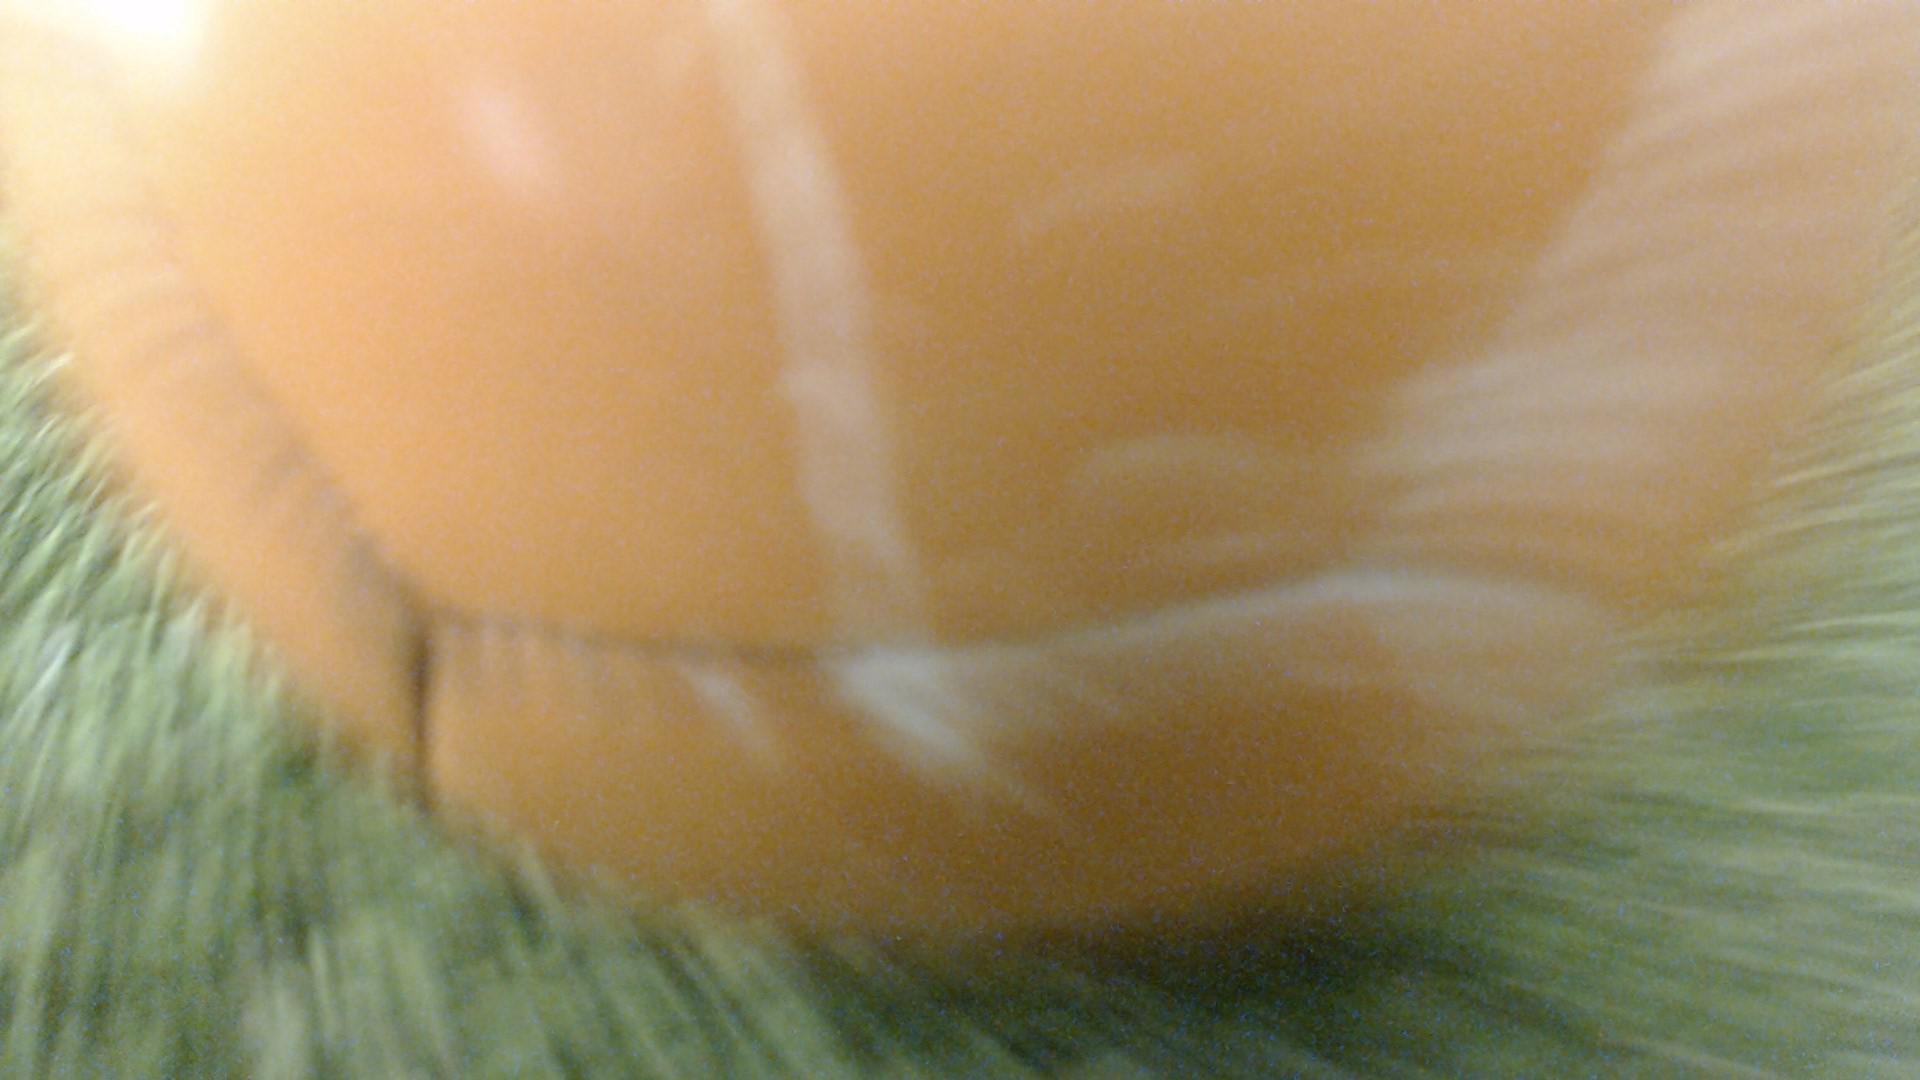bola: (0, 0, 1919, 931)
